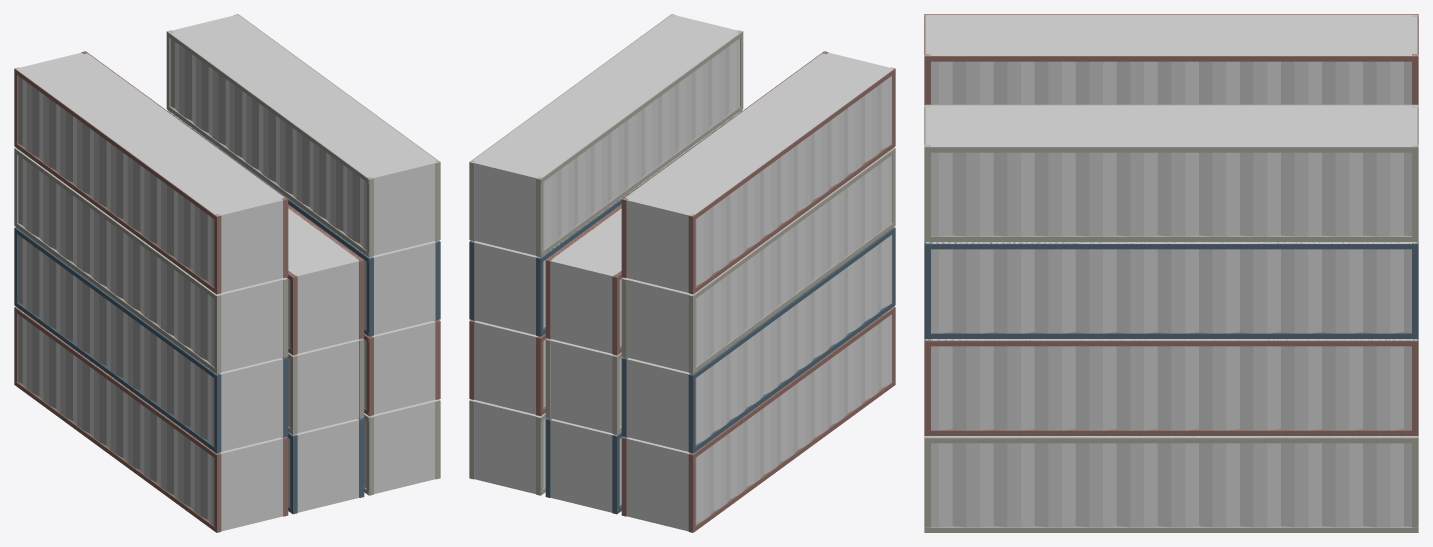
The picture shows the model from 3 angles, left to right: view 1: azimuth 30°, elevation 25°; view 2: azimuth 150°, elevation 25°; view 3: azimuth 270°, elevation 25°; orthographic projection. The views are drawn at different scales.
Visible parts, largest first — view 1: Visual; view 2: Visual; view 3: Visual.
Boxes of the visible parts, x1,y1,x2,y2 form: Visual: (14, 14, 440, 532); Visual: (469, 14, 895, 532); Visual: (924, 14, 1418, 532).
Size of the model in its own units: 7.82 by 10.54 by 12.24.
